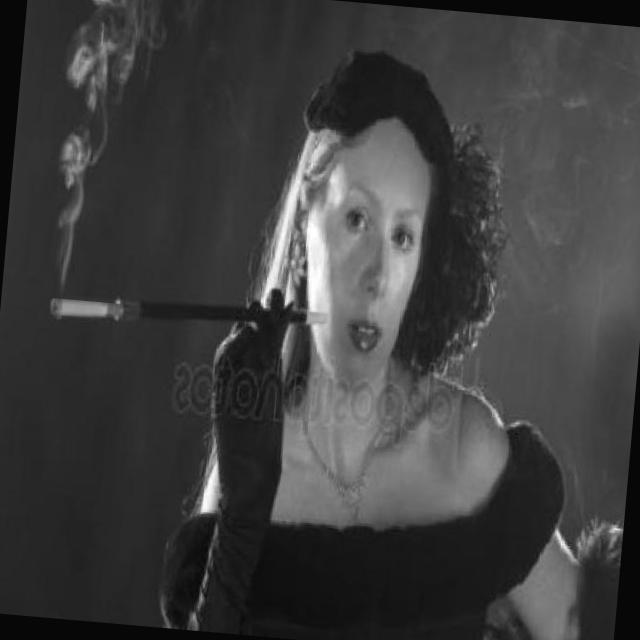cigarette: (45, 290, 124, 326)
